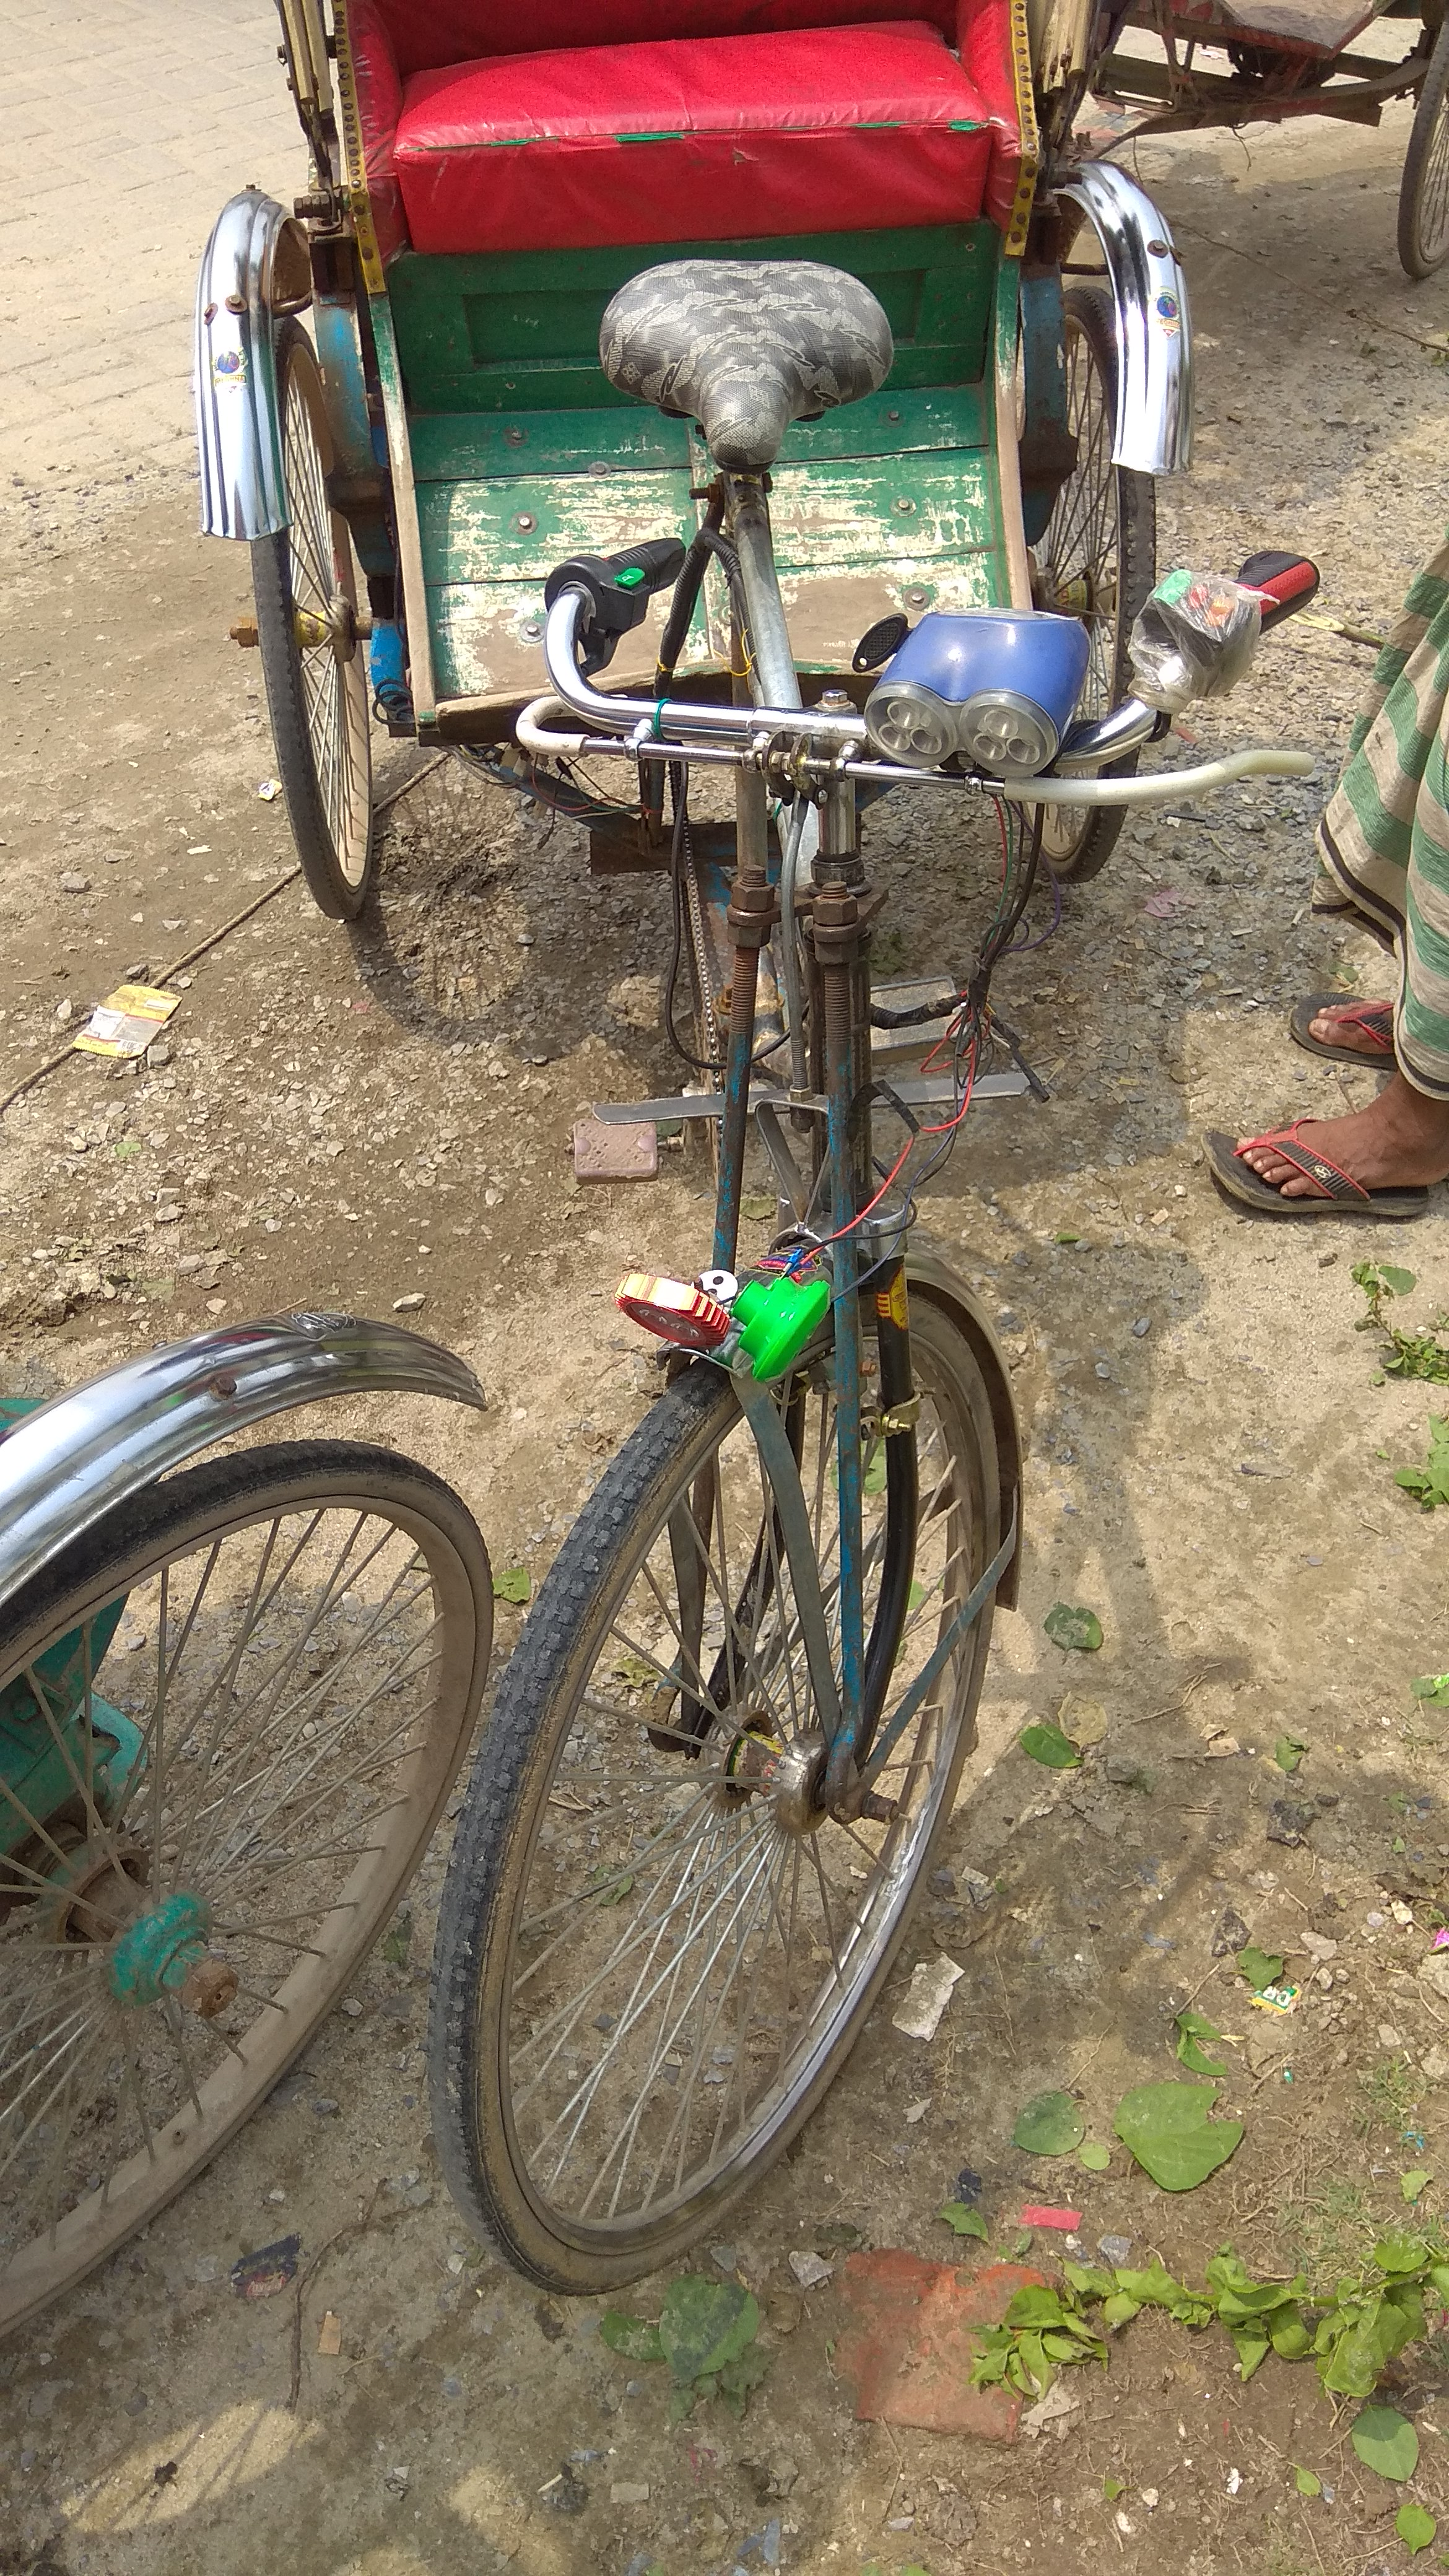Rickshaw: (191, 7, 1346, 2337), (9, 1260, 464, 2367)
